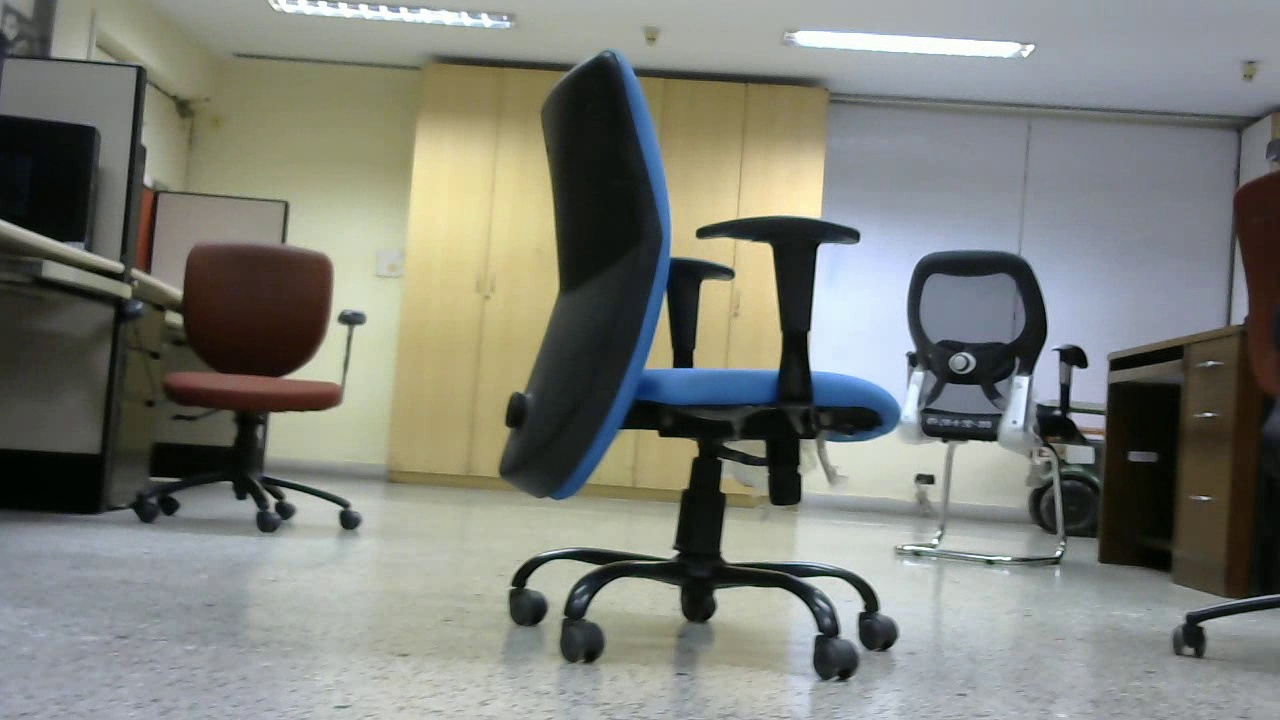chair: (501, 44, 904, 674), (136, 238, 358, 541), (894, 249, 1070, 564)
